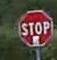stop: (16, 9, 52, 47)
